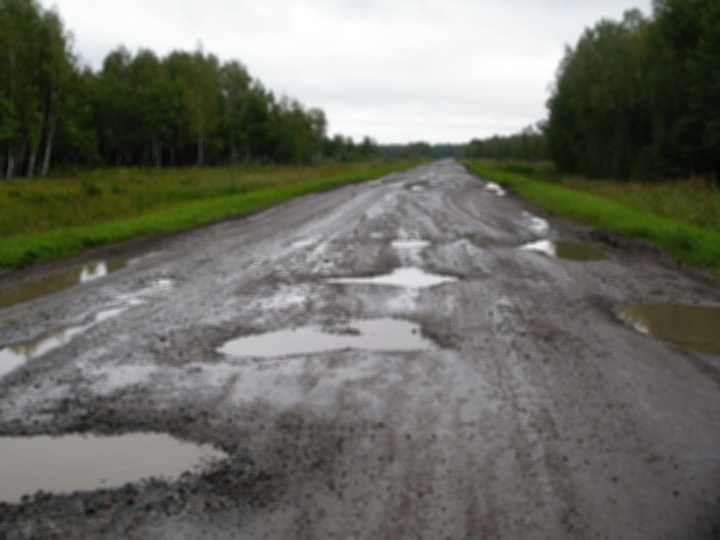pothole: (0, 411, 223, 500), (215, 315, 466, 358), (612, 284, 716, 361), (317, 264, 463, 294), (516, 236, 615, 268), (245, 272, 313, 311), (59, 303, 152, 326), (0, 336, 59, 372), (123, 273, 180, 297), (385, 236, 432, 252), (478, 176, 508, 195), (404, 180, 433, 191)
